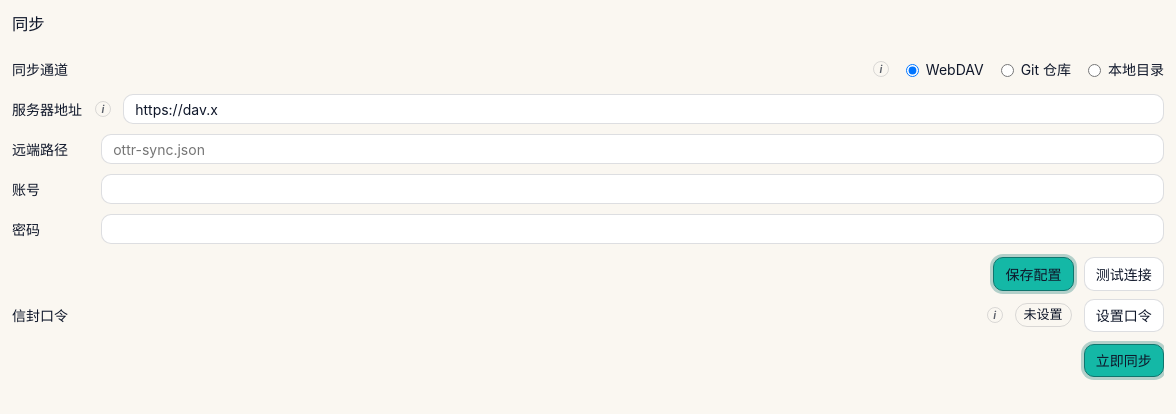
SyncSettings › Minor-2：草稿未保存 → 立即同步旁 hint「更改保存后生效」，保存后消失
Replace the text in the field with test id "sync-webdav-server" with "https://dav.y". click: (644, 109)
box: [123,94,1164,124]
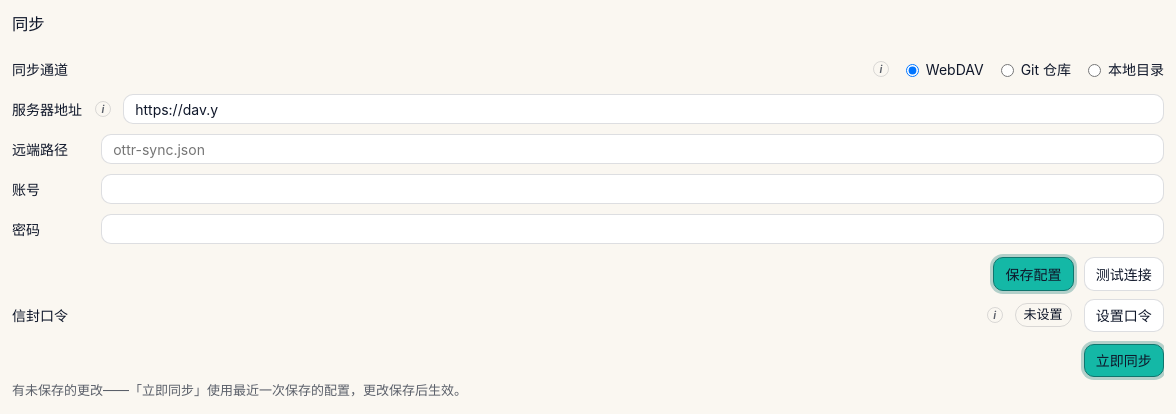
Result: the text "有未保存的更改——「立即同步」使用最近一次保存的配置，更改保存后生效。" is shown at [12,382,467,398]
Click the button with test id "sync-save". click: (1034, 274)
box: [993,257,1074,290]
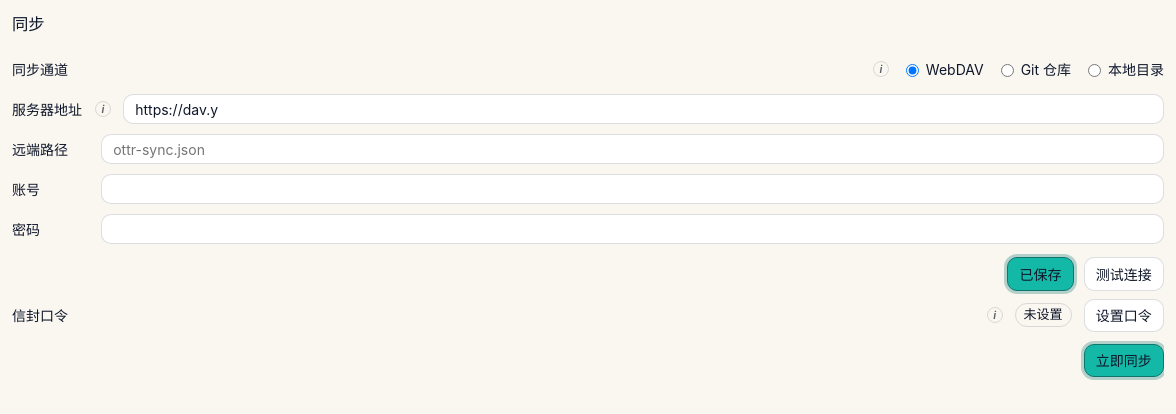
Result: the text with test id "sync-dirty-hint" is gone
